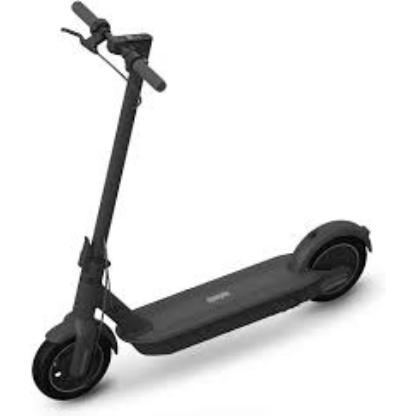bike: (29, 3, 374, 401)
